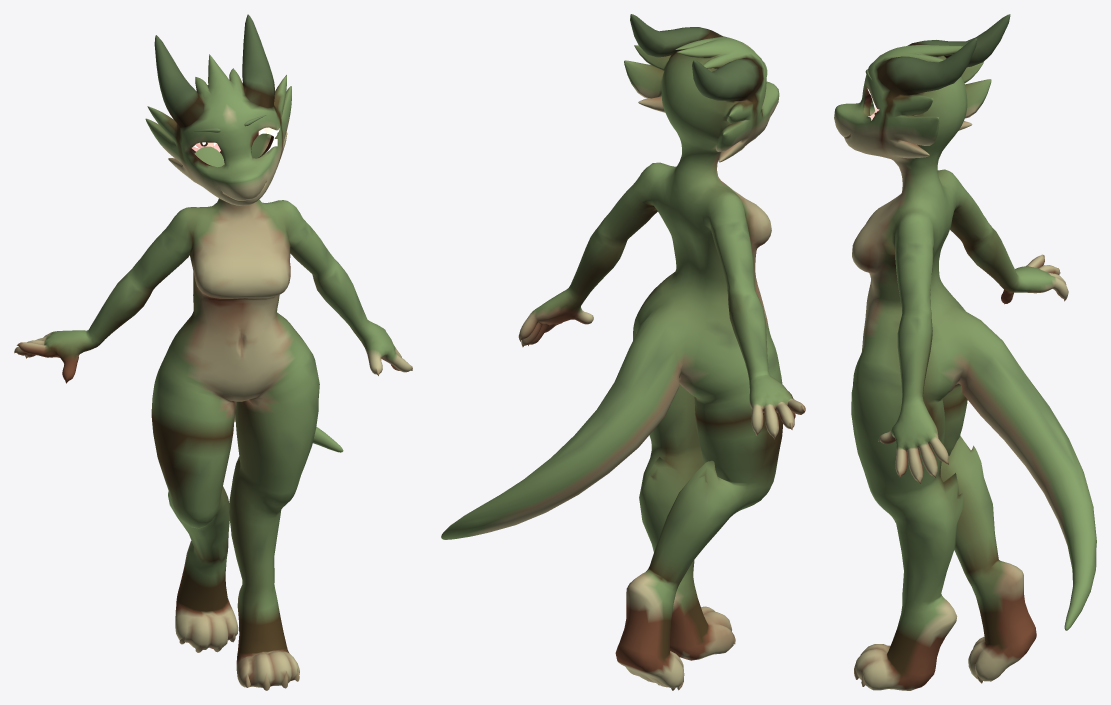
Rendered from Kobold_Release.fbx.
3 views of the same model, side by side, from view 1: azimuth 30°, elevation 25°; view 2: azimuth 150°, elevation 25°; view 3: azimuth 270°, elevation 25° (orthographic). The views are drawn at different scales.
Parts seen in each view (by area): view 1: Export; view 2: Export; view 3: Export.
Part boxes in pixels (x1,y1,x2,y2): Export: (14, 14, 412, 690); Export: (441, 14, 805, 690); Export: (834, 14, 1096, 690).
Size of the model in its own units: 85.58 by 55.63 by 154.
